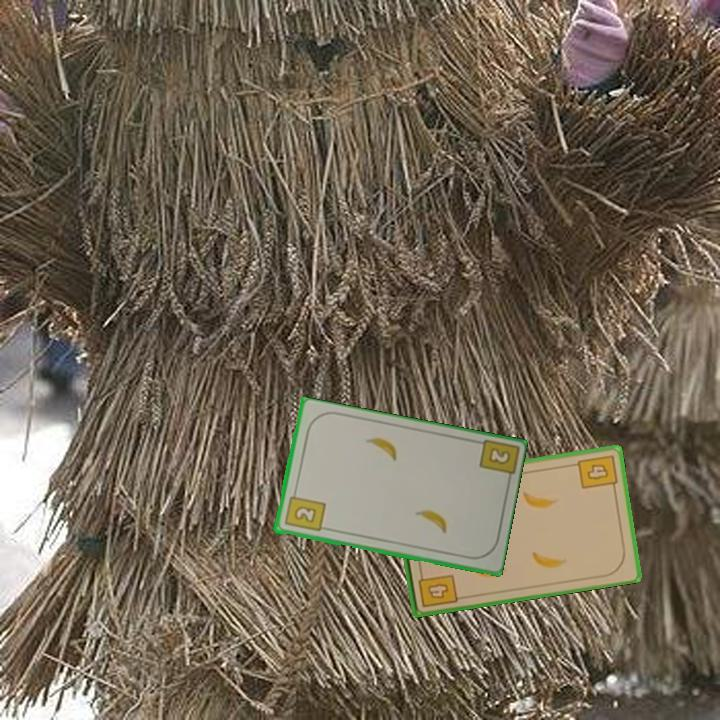2b: (281, 487, 327, 534), (485, 444, 513, 468)
4b: (414, 566, 460, 610), (574, 451, 620, 494)
